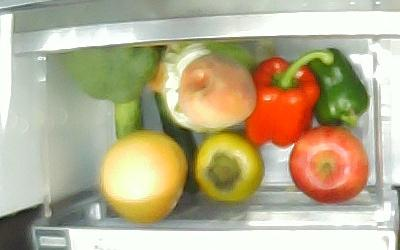apple: (288, 125, 369, 201)
broccoli: (65, 44, 160, 137)
cucumber: (149, 46, 201, 198)
grapefruit: (100, 130, 187, 223)
lettuce: (149, 44, 254, 134)
paprika: (244, 48, 333, 149), (304, 47, 371, 127)
peach: (180, 53, 256, 129)
persimmon: (194, 134, 265, 203)
